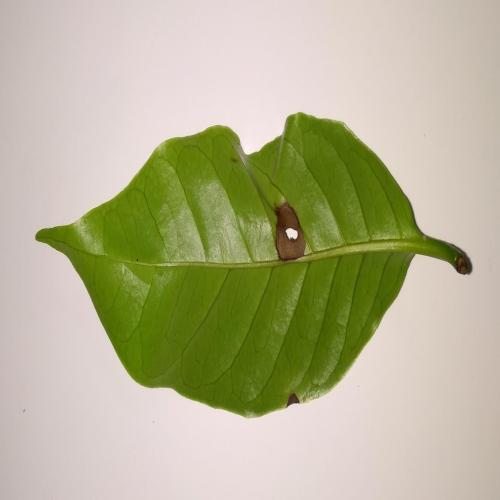miner: (275, 201, 306, 262)
